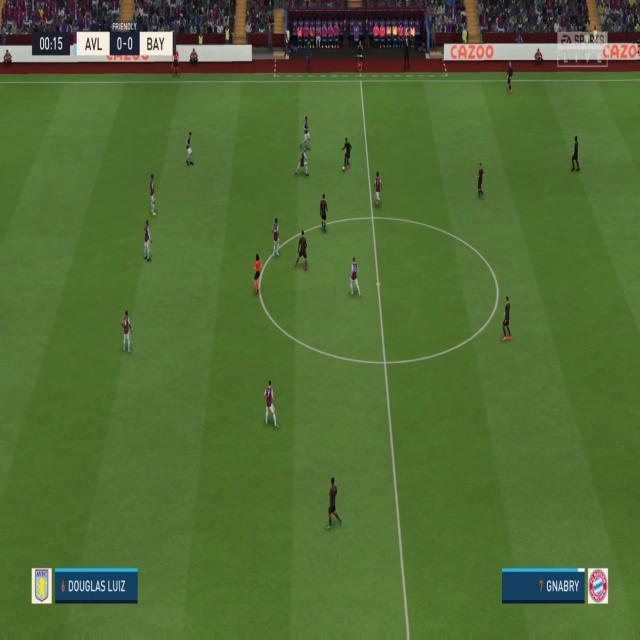Ball: (342, 166, 345, 173)
Referee: (254, 256, 264, 296)
Team-A: (326, 476, 342, 530), (295, 233, 311, 269), (500, 295, 512, 342), (568, 135, 580, 173), (318, 195, 328, 233), (476, 163, 486, 198), (342, 139, 352, 172), (507, 63, 515, 92)
Team-H: (263, 380, 278, 428), (122, 308, 135, 352), (269, 218, 282, 258), (149, 174, 160, 217), (295, 146, 310, 176), (183, 132, 195, 169), (141, 220, 152, 260), (349, 259, 360, 297), (372, 174, 383, 208), (300, 116, 310, 151)
